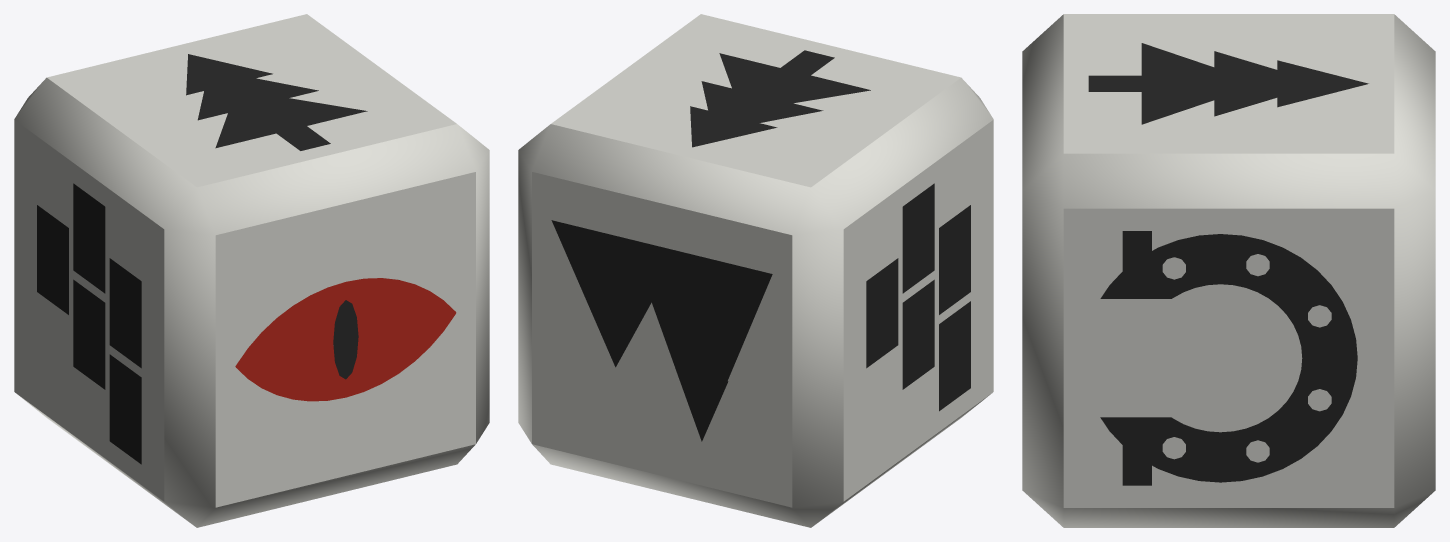
The model's file is runenwuerfel.glb.
3 renders of one model, left to right at view 1: azimuth 30°, elevation 25°; view 2: azimuth 150°, elevation 25°; view 3: azimuth 270°, elevation 25°, orthographic. The views are drawn at different scales.
Parts seen in each view (by area): view 1: runenwuerfel; view 2: runenwuerfel; view 3: runenwuerfel.
Part boxes in pixels (x1,y1,x2,y2): runenwuerfel: [14, 14, 489, 527]; runenwuerfel: [518, 14, 993, 527]; runenwuerfel: [1022, 14, 1435, 527].
Size of the model in its own units: 16 by 16 by 16.
